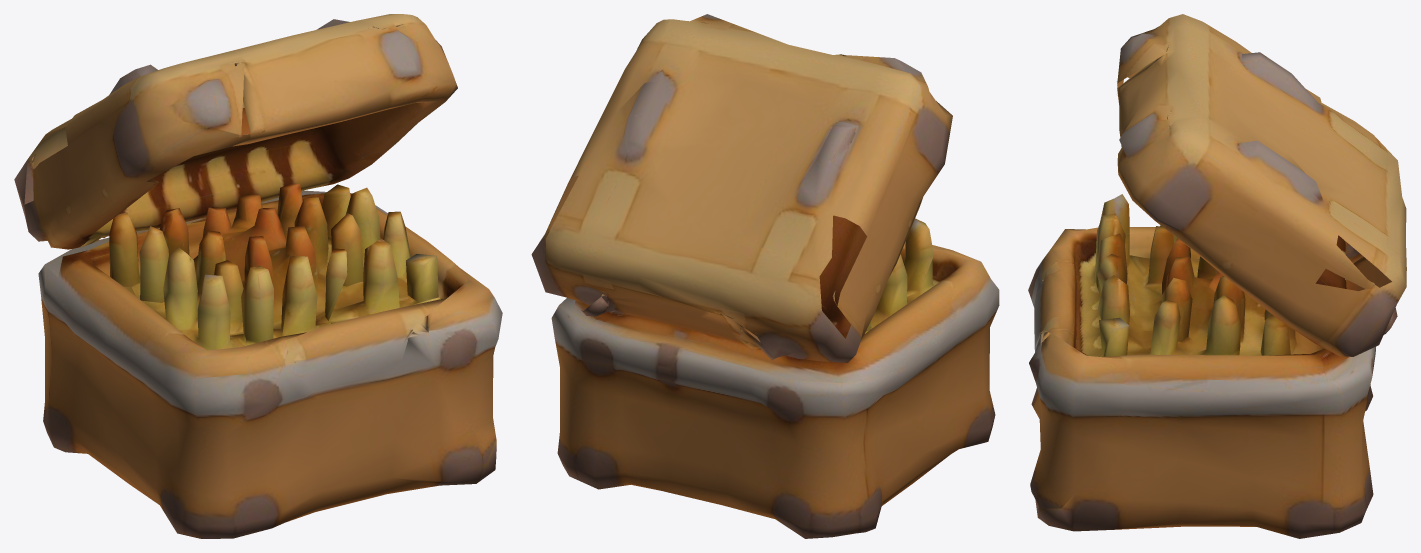
Rendered from ammo9.glb.
3 views of the same model, side by side, from view 1: azimuth 30°, elevation 25°; view 2: azimuth 150°, elevation 25°; view 3: azimuth 270°, elevation 25° (orthographic). The views are drawn at different scales.
Parts seen in each view (by area): view 1: tripo_node_741a4dff-40b4-49e4-abba-2212608f3c4d; view 2: tripo_node_741a4dff-40b4-49e4-abba-2212608f3c4d; view 3: tripo_node_741a4dff-40b4-49e4-abba-2212608f3c4d.
Boxes of the visible parts, left/top/right/bottom form: tripo_node_741a4dff-40b4-49e4-abba-2212608f3c4d: left=14, top=14, right=502, bottom=538; tripo_node_741a4dff-40b4-49e4-abba-2212608f3c4d: left=531, top=14, right=999, bottom=538; tripo_node_741a4dff-40b4-49e4-abba-2212608f3c4d: left=1028, top=14, right=1406, bottom=538.
Size of the model in its own units: 0.8085 by 0.9755 by 0.8365.
Materials: 1 (1 with a texture image).
